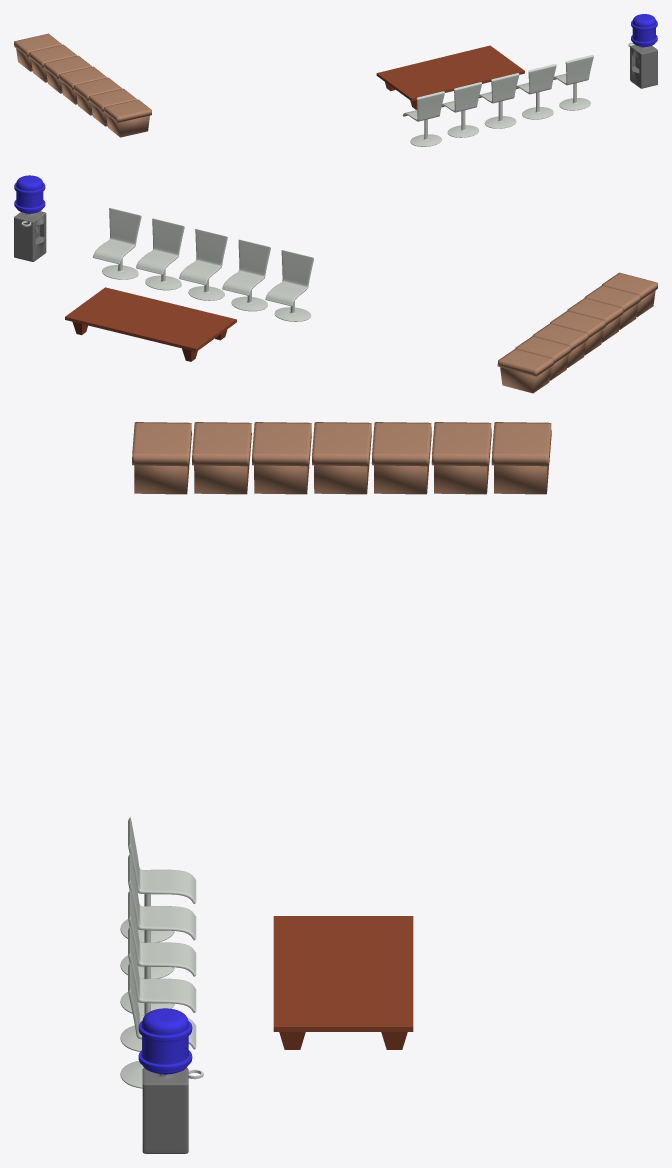
The model's file is Workshop_ver.2.fbx.
The picture shows the model from 3 angles, top to bottom: view 1: azimuth 30°, elevation 25°; view 2: azimuth 150°, elevation 25°; view 3: azimuth 270°, elevation 25°; orthographic projection. The views are drawn at different scales.
Parts seen in each view (by area): view 1: Body.001, Chair.002, Platform.001, Platform.002, Platform.003; view 2: Chair.002, Body.001, Platform.001, Platform.002, Platform.003; view 3: Body.001, Platform.001, Chair.002, Platform.002, Platform.003.
Boxes of the visible parts, x1,y1,x2,y2 form: Body.001: [14, 33, 151, 137]; Chair.002: [402, 55, 593, 146]; Platform.001: [376, 45, 524, 109]; Platform.002: [630, 45, 657, 88]; Platform.003: [631, 14, 657, 47]; Chair.002: [92, 208, 313, 321]; Body.001: [497, 272, 657, 393]; Platform.001: [65, 287, 236, 361]; Platform.002: [14, 211, 46, 261]; Platform.003: [14, 175, 45, 213]; Body.001: [132, 422, 551, 494]; Platform.001: [273, 916, 413, 1049]; Chair.002: [120, 817, 196, 1088]; Platform.002: [142, 1068, 188, 1153]; Platform.003: [138, 1008, 192, 1074].
Size of the model in its own units: 1384 by 246 by 473.
